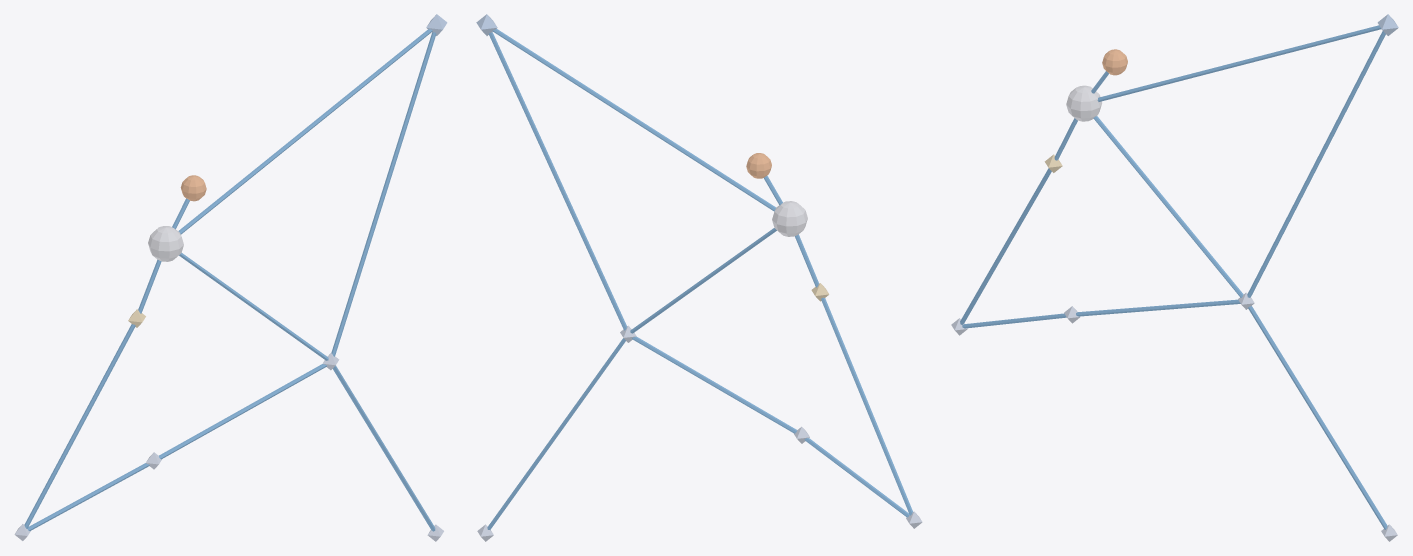
Rendered from constellation-aql.glb.
3 renders of one model, left to right at view 1: azimuth 30°, elevation 25°; view 2: azimuth 150°, elevation 25°; view 3: azimuth 330°, elevation 25°, orthographic.
Size of the model in its own units: 1.77 by 2.03 by 0.2185.
